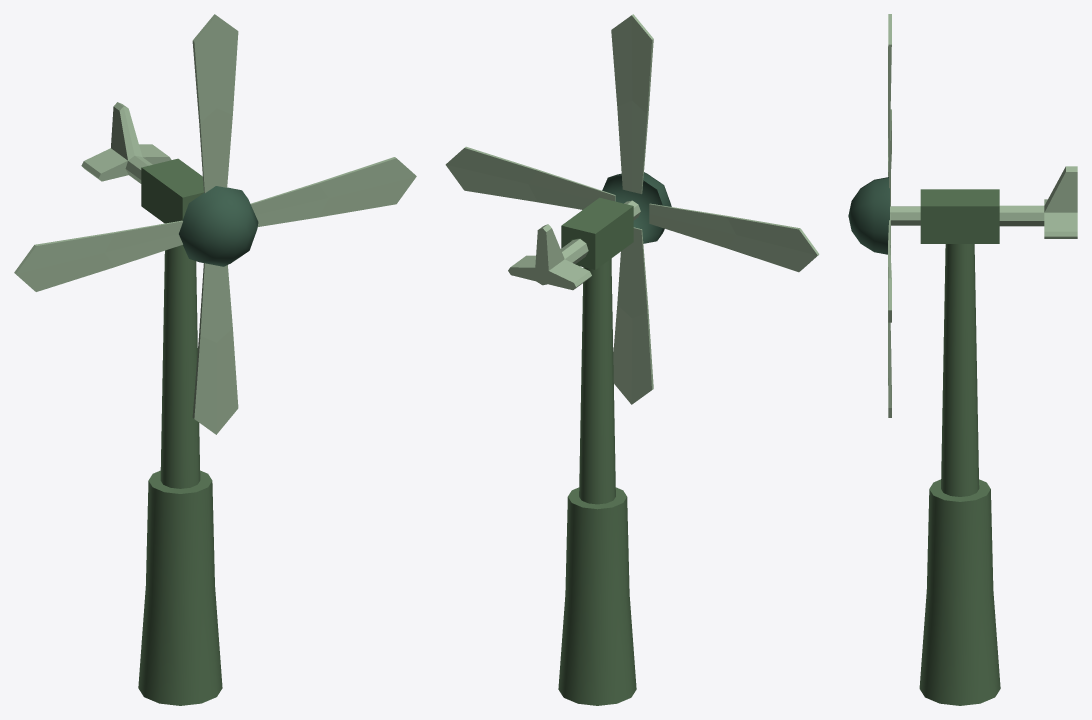
Rendered from Greybox__Fans.fbx.
The picture shows the model from 3 angles, left to right: view 1: azimuth 30°, elevation 25°; view 2: azimuth 150°, elevation 25°; view 3: azimuth 270°, elevation 25°; orthographic projection. The views are drawn at different scales.
Visible parts, largest first — view 1: FanAnimation, Fanbase; view 2: FanAnimation, Fanbase; view 3: Fanbase, FanAnimation.
Boxes of the visible parts, x1,y1,x2,y2 form: FanAnimation: [14, 14, 416, 434]; Fanbase: [138, 158, 222, 705]; FanAnimation: [445, 14, 819, 404]; Fanbase: [558, 197, 636, 705]; Fanbase: [919, 189, 1000, 705]; FanAnimation: [848, 14, 1077, 417].
Size of the model in its own units: 888 by 1481 by 456.
